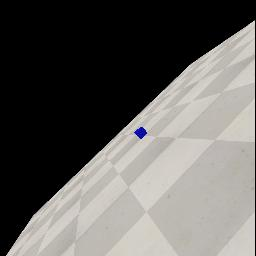box: (134, 127, 147, 139)
